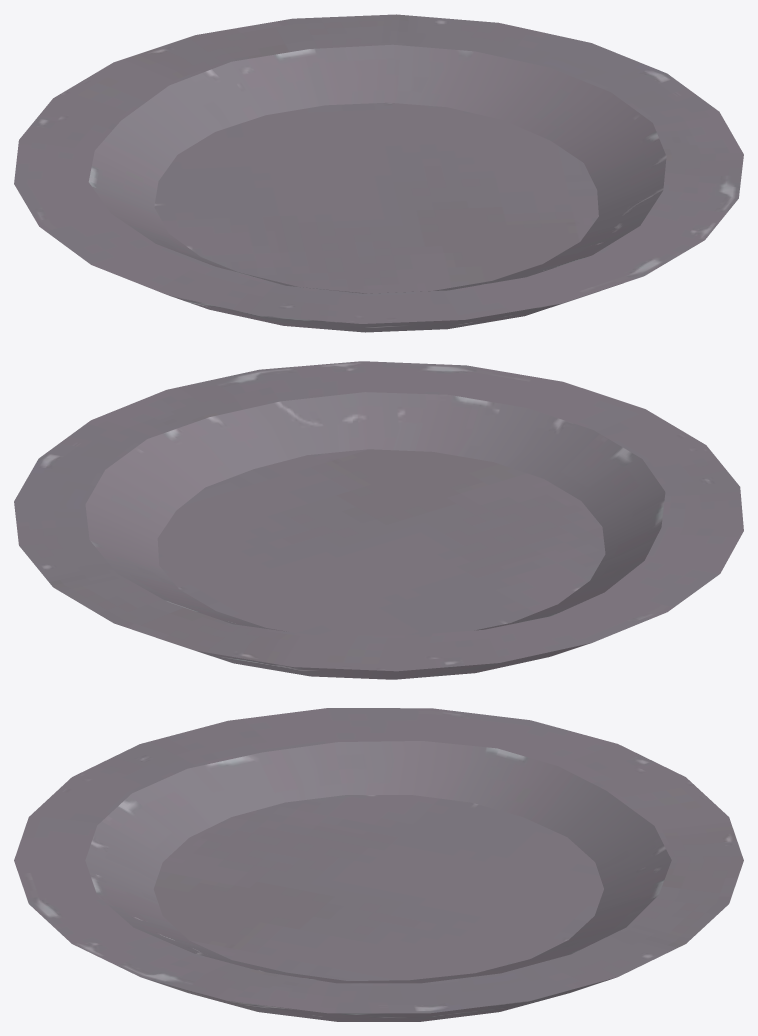
File: Table_Plate.glb
The picture shows the model from 3 angles, top to bottom: view 1: azimuth 30°, elevation 25°; view 2: azimuth 150°, elevation 25°; view 3: azimuth 270°, elevation 25°; orthographic projection.
Parts seen in each view (by area): view 1: Table_Plate; view 2: Table_Plate; view 3: Table_Plate.
Boxes of the visible parts, x1,y1,x2,y2 form: Table_Plate: (14,14,743,332); Table_Plate: (14,361,743,679); Table_Plate: (14,708,743,1021).
Bounding box in the file's own units: 0.3333 × 0.0202 × 0.3369.
1 material, 1 textured.
